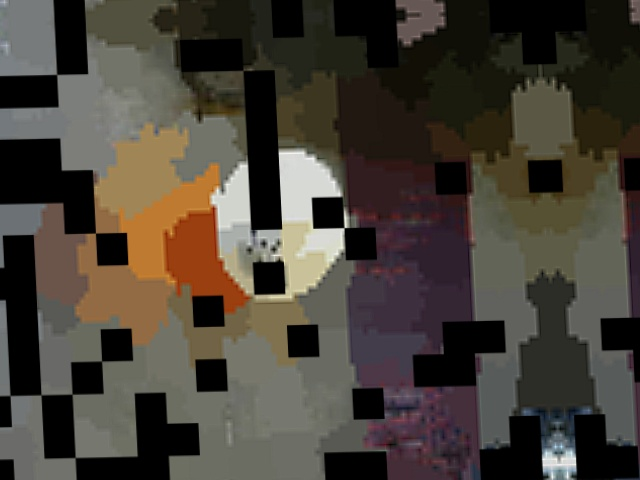eight: (244, 206, 288, 267)
